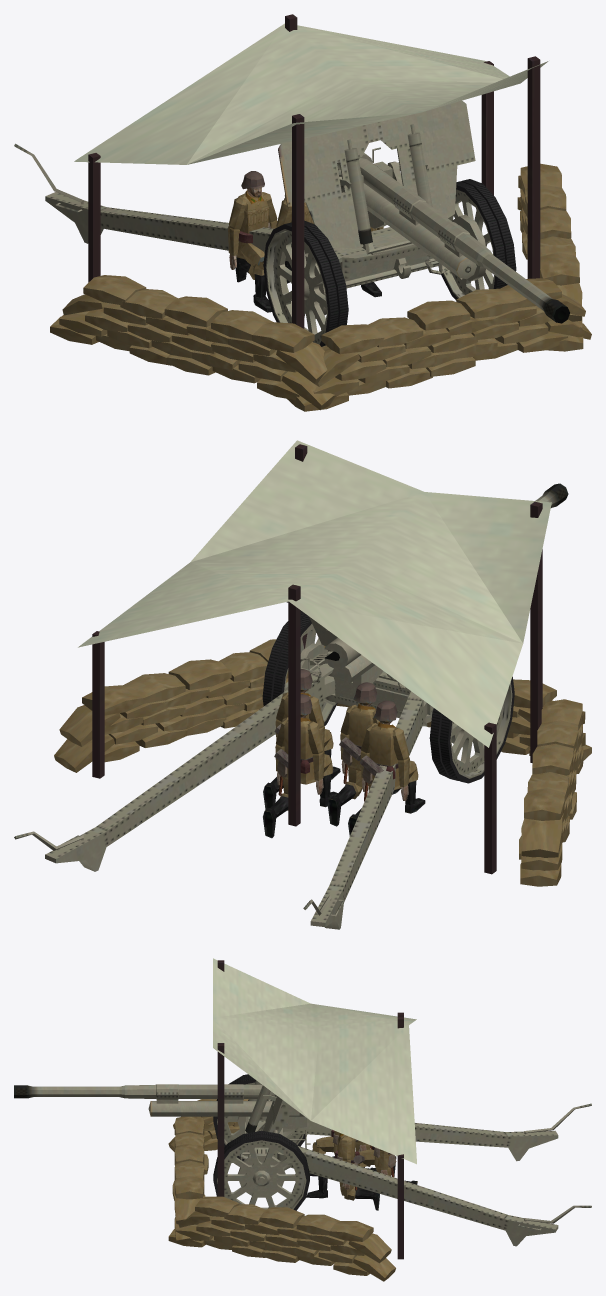
File: HUN31M_105mm_stationary.dae
3 renders of one model, top to bottom at view 1: azimuth 30°, elevation 25°; view 2: azimuth 150°, elevation 25°; view 3: azimuth 270°, elevation 25°, orthographic. The views are drawn at different scales.
Parts seen in each view (by area): view 1: base, shield, wheels, trail2, barrel, sleeve, turret, carriage, torso3; view 2: base, trail1, wheels, trail2, torso3, carriage, torso2, torso4, barrel, sleeve; view 3: base, wheels, trail1, trail2, sleeve, barrel, turret.
Part boxes in pixels (x1,y1,x2,y2): base: (50,14,591,411); shield: (278,100,475,248); wheels: (263,179,516,346); trail2: (14,143,308,261); barrel: (337,147,569,323); sleeve: (338,161,476,279); turret: (339,124,432,254); carriage: (332,225,468,288); torso3: (236,190,270,259); base: (54,440,591,886); trail1: (14,663,336,871); wheels: (262,611,514,783); trail2: (303,691,427,929); torso3: (359,722,401,801); carriage: (310,653,433,723); torso2: (339,703,375,784); torso4: (274,718,315,795); barrel: (324,483,568,669); sleeve: (332,655,382,686); base: (168,958,416,1281); wheels: (213,1074,309,1210); trail1: (277,1146,591,1246); trail2: (283,1103,591,1161); sleeve: (148,1084,306,1129); barrel: (14,1084,274,1098); turret: (245,1080,310,1149).
Size of the model in its own units: 51.33 by 70.75 by 26.68.
Materials: 1 (1 with a texture image).
